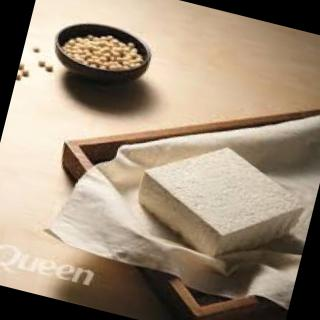Tahu: (125, 120, 320, 278)
